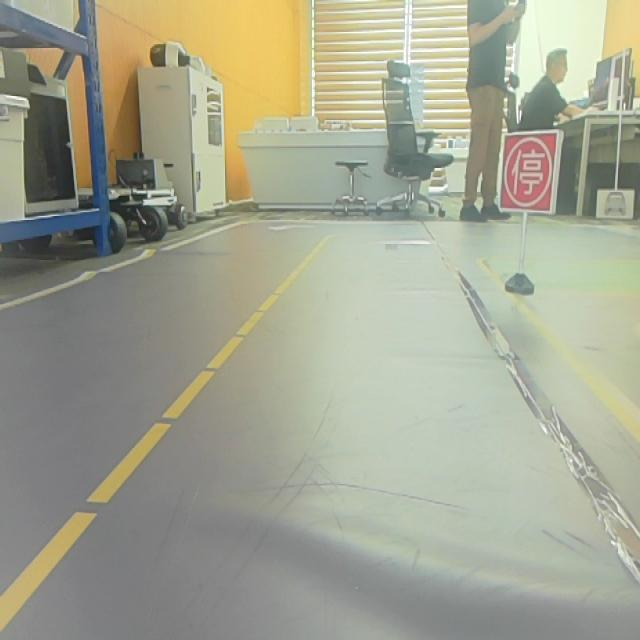left_lane: (0, 235, 328, 631), (479, 261, 640, 445)
